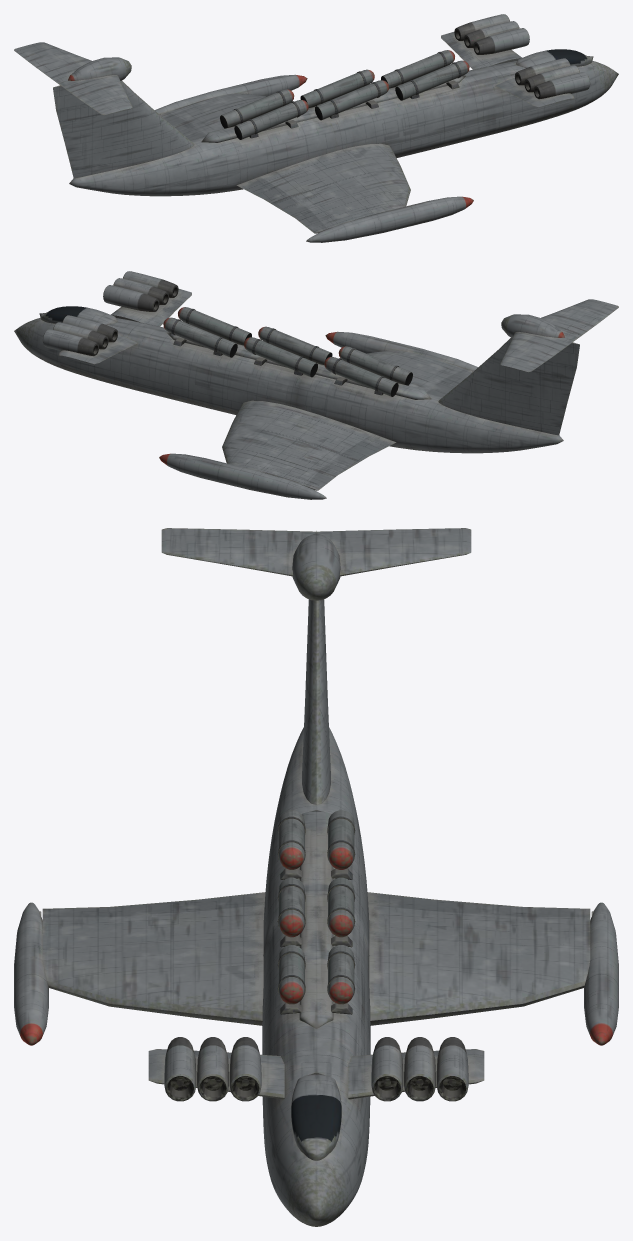
Rendered from fh_battle_e_ekranoplan.glb.
3 views of the same model, one above another, from view 1: azimuth 30°, elevation 25°; view 2: azimuth 150°, elevation 25°; view 3: azimuth 270°, elevation 25° (orthographic). The views are drawn at different scales.
Visible parts, largest first — view 1: body; view 2: body; view 3: body.
Part boxes in pixels (box(x1,y1,x2,y2)): body: box(14, 14, 618, 242); body: box(14, 271, 618, 499); body: box(14, 528, 618, 1226).
Size of the model in its own units: 1 by 0.2822 by 0.5402.
Materials: 2 (2 with a texture image).
